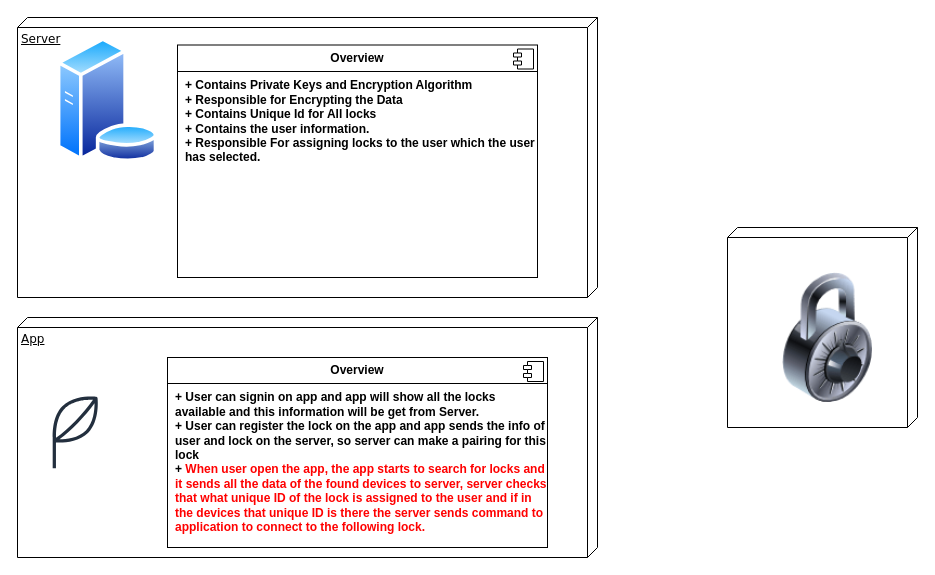
This 935x575 diagram has some shape labels left out. The shapes that lost their labels are listed below. From the top down, each one's box as (x1, y1, x2, y2) in pixels, then its label:
(726, 226, 918, 428): smartLock
(29, 384, 122, 478): Application
